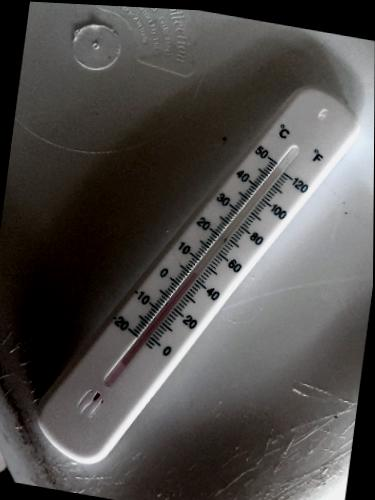thermo: (32, 77, 367, 468)
